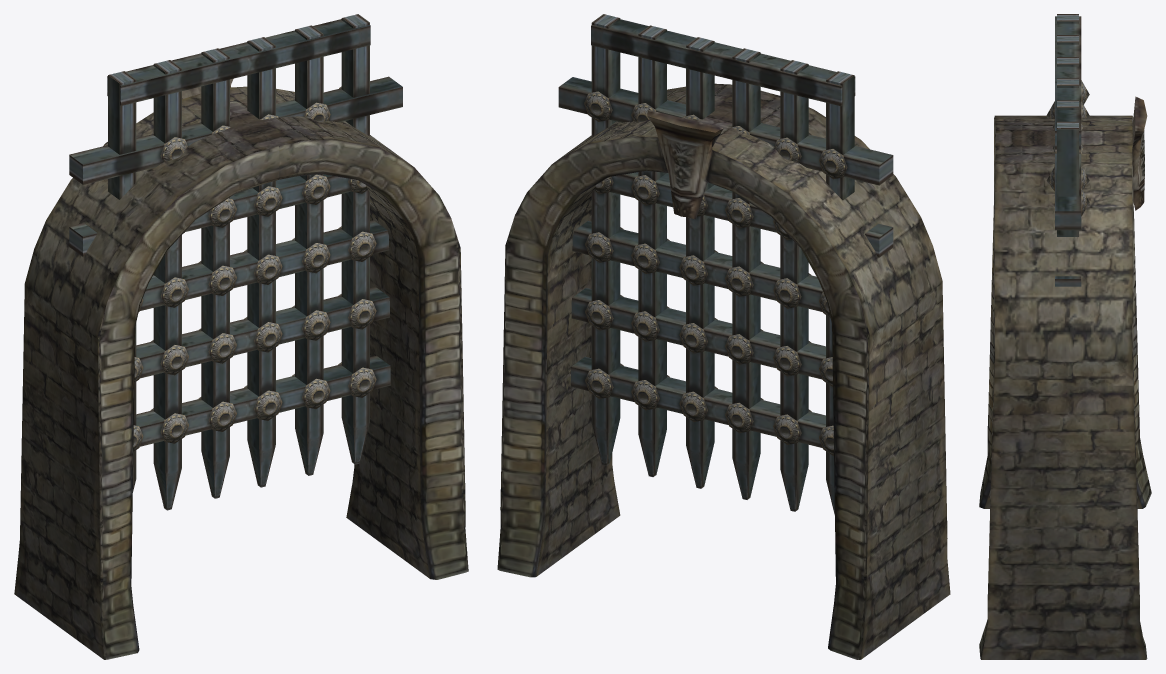
Rendered from Dungeon_BigGate01.FBX.
The picture shows the model from 3 angles, left to right: view 1: azimuth 30°, elevation 25°; view 2: azimuth 150°, elevation 25°; view 3: azimuth 270°, elevation 25°; orthographic projection. The views are drawn at different scales.
Visible parts, largest first — view 1: Dungeon_BigGate01; view 2: Dungeon_BigGate01; view 3: Dungeon_BigGate01.
Part boxes in pixels (<box>): Dungeon_BigGate01: <box>14,14,468,659</box>; Dungeon_BigGate01: <box>497,14,950,659</box>; Dungeon_BigGate01: <box>979,14,1151,659</box>.
Size of the model in its own units: 754 by 1053 by 327.
